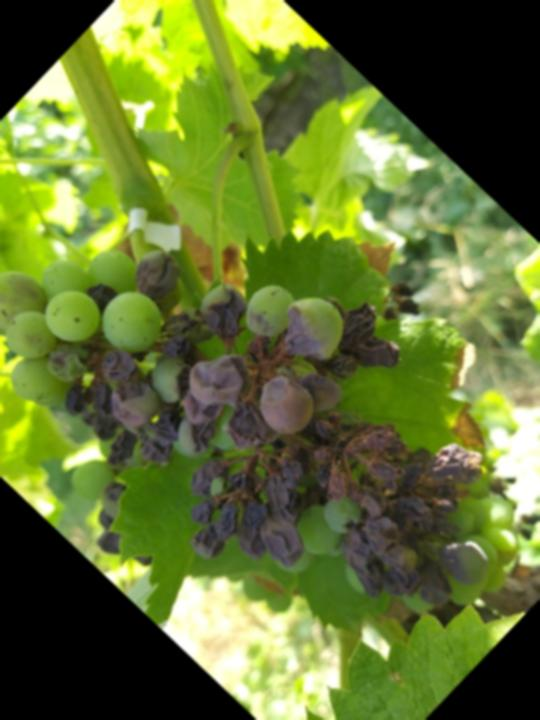grape: (0, 96, 540, 720)
